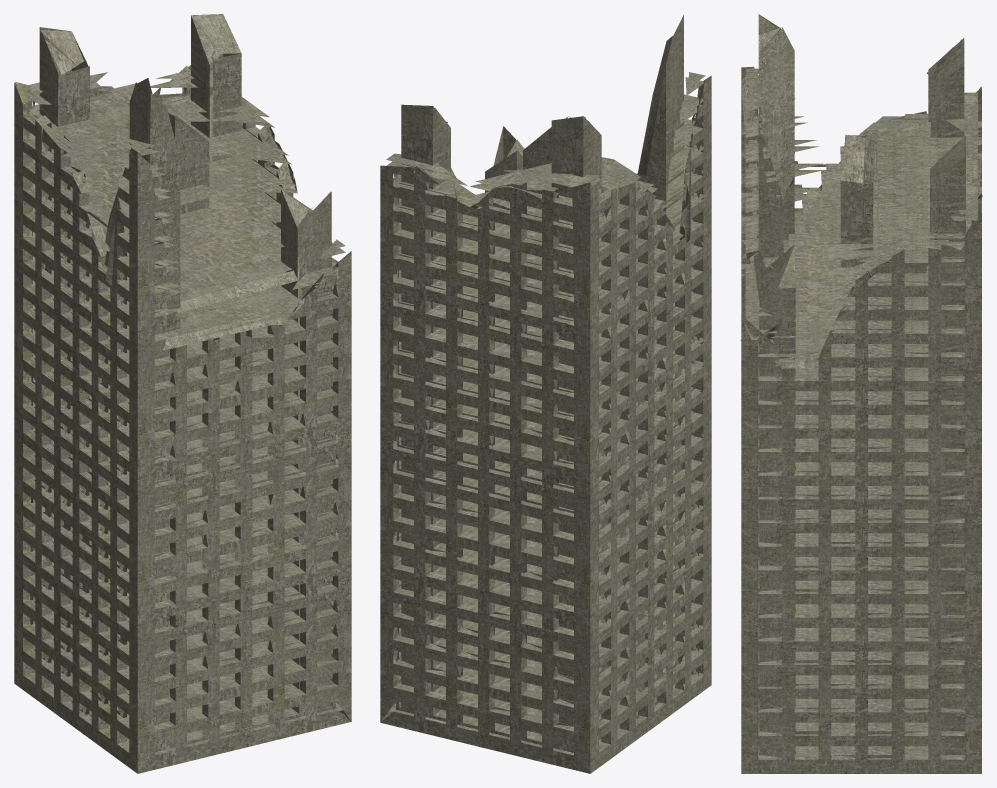
Rendered from yikinti_e.gltf.
The picture shows the model from 3 angles, left to right: view 1: azimuth 30°, elevation 25°; view 2: azimuth 150°, elevation 25°; view 3: azimuth 270°, elevation 25°; orthographic projection. The views are drawn at different scales.
Visible parts, largest first — view 1: yikinti_e; view 2: yikinti_e; view 3: yikinti_e.
Part boxes in pixels (x1,y1,x2,y2): yikinti_e: [14, 14, 351, 773]; yikinti_e: [380, 15, 711, 773]; yikinti_e: [740, 14, 982, 773].
Size of what is drawn, in the model's own units: 19.14 by 55.98 by 18.45.
Materials: 1 (1 with a texture image).
